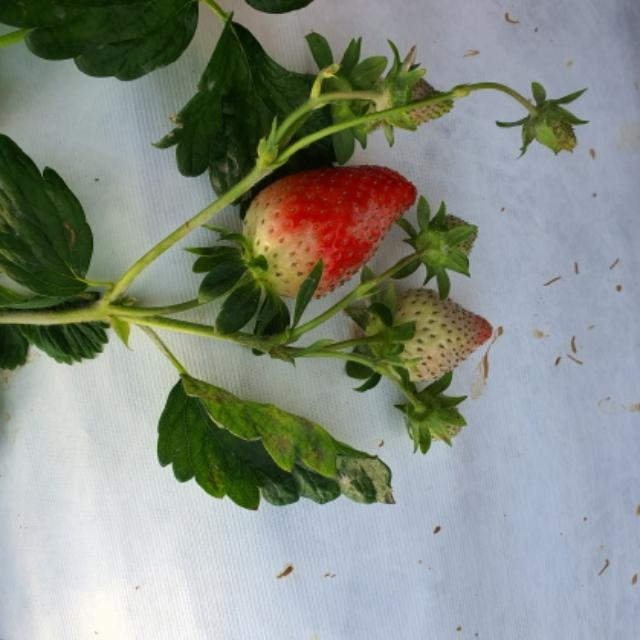Powdery Mildew Fruit: (329, 199, 412, 292)
